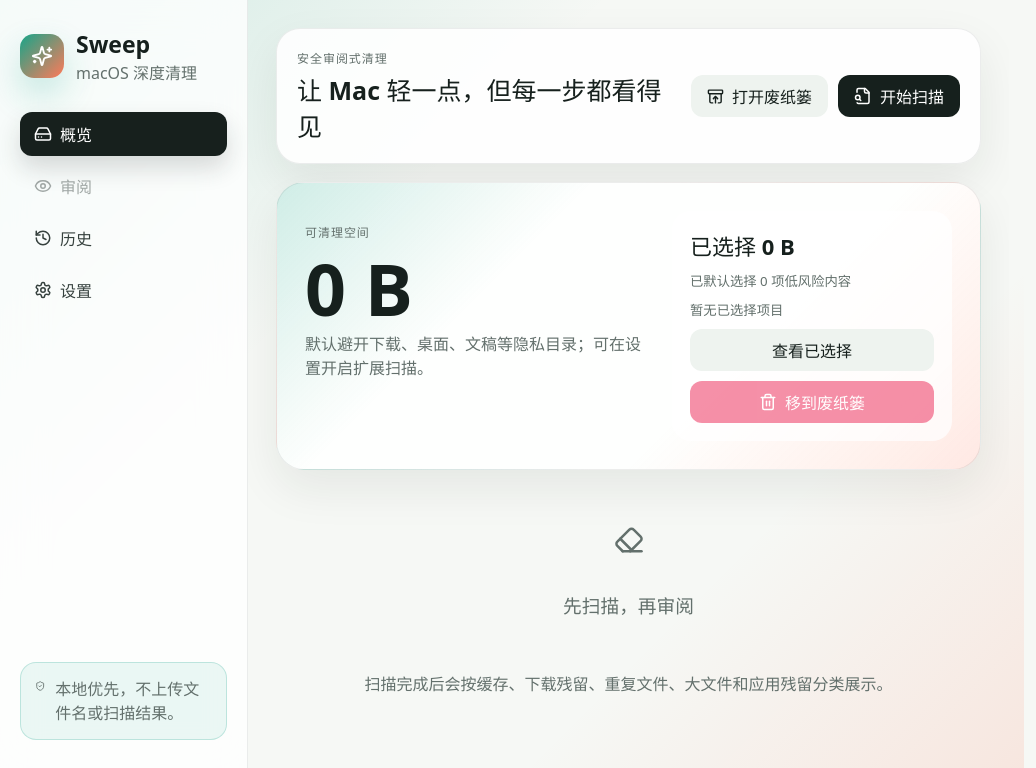
App › opens review filtered to a category when a dashboard category is clicked
Step 1. Click the button "开始扫描" → (899, 96), box [838, 75, 960, 117]
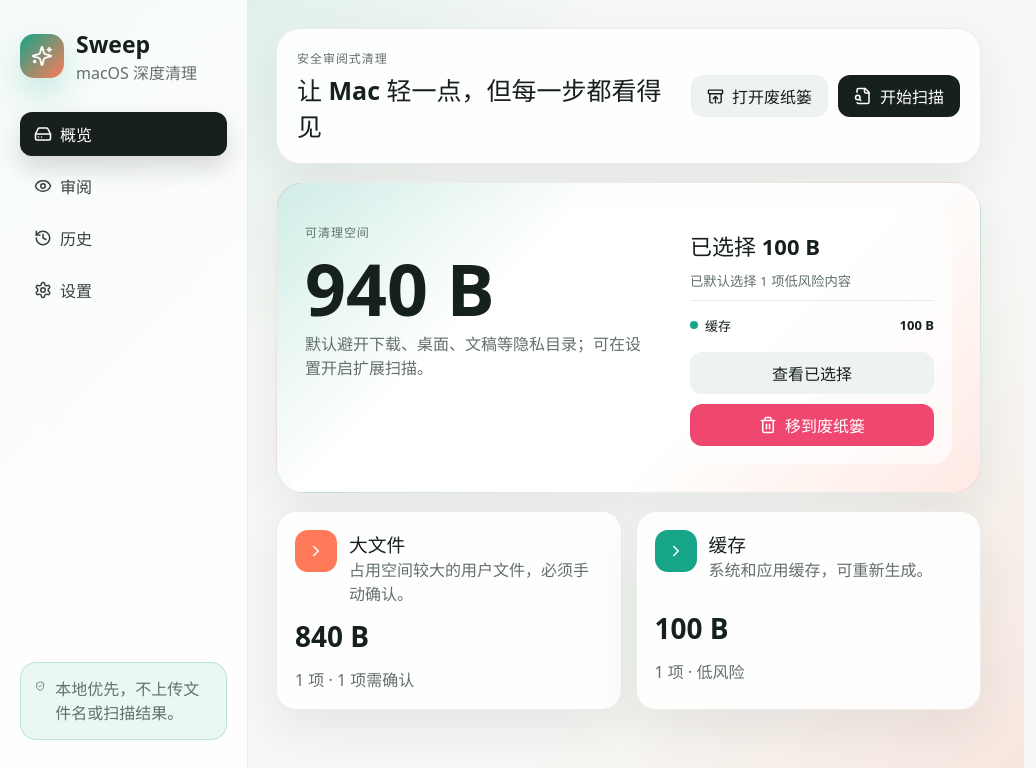
Step 2. Click the button "大文件 占用空间较大的用户文件，必须手动确认。 840 B 1 项 · 1 项需确认" → (316, 551), box [276, 511, 622, 710]
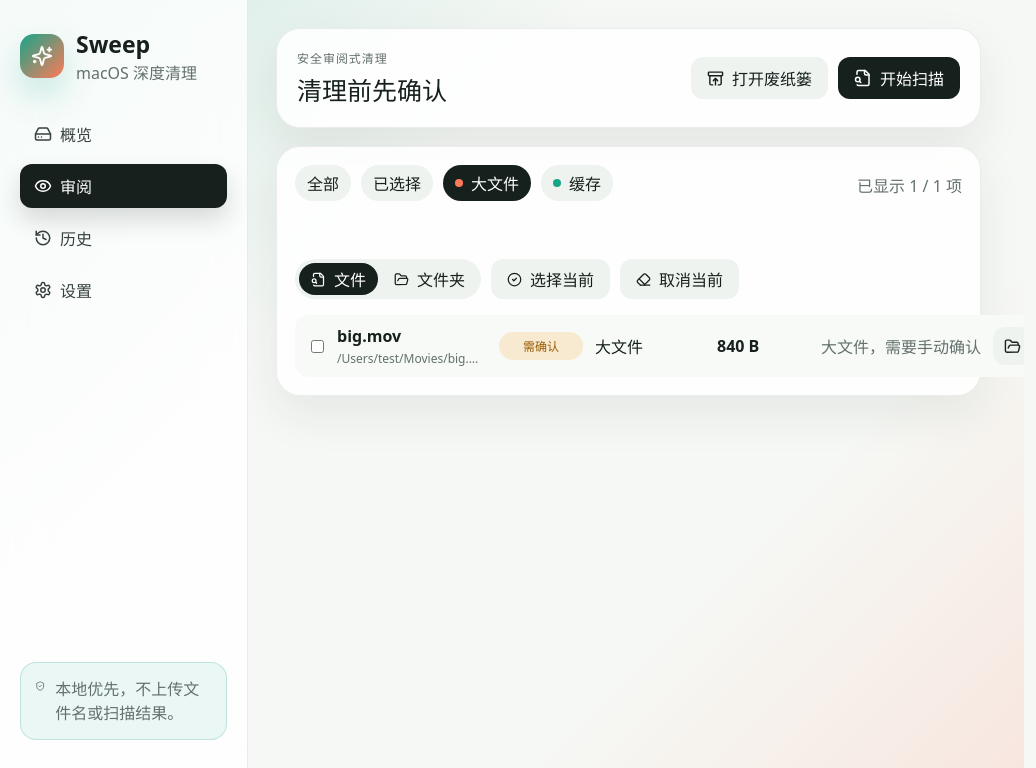
Check: the text "big.mov" is shown, box [337, 325, 401, 347]
Check: the text "/Users/test/Movies/big.mov" is shown, box [337, 350, 487, 367]
